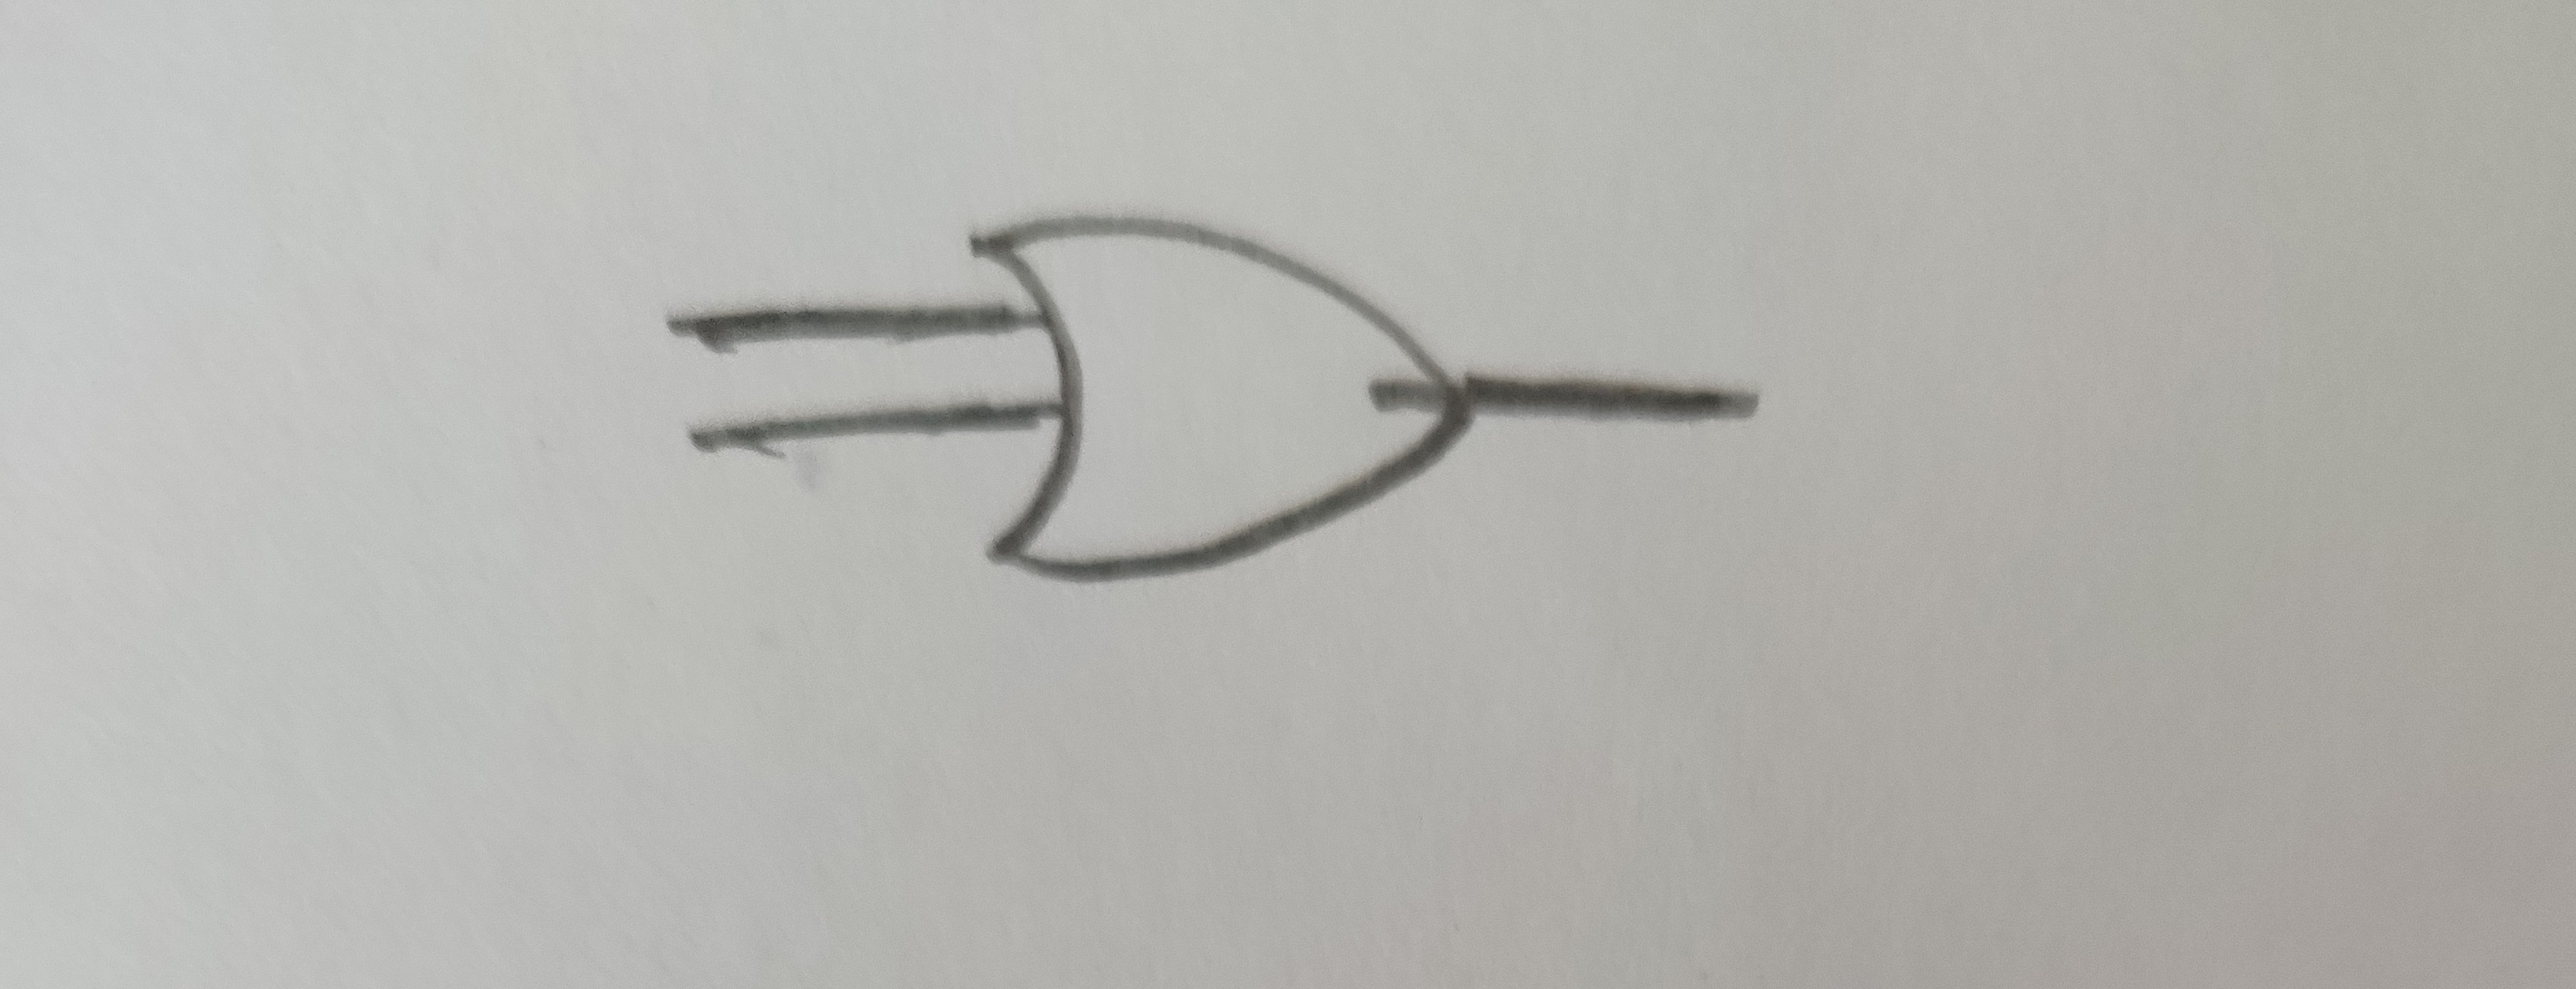or: (951, 163, 1498, 621)
